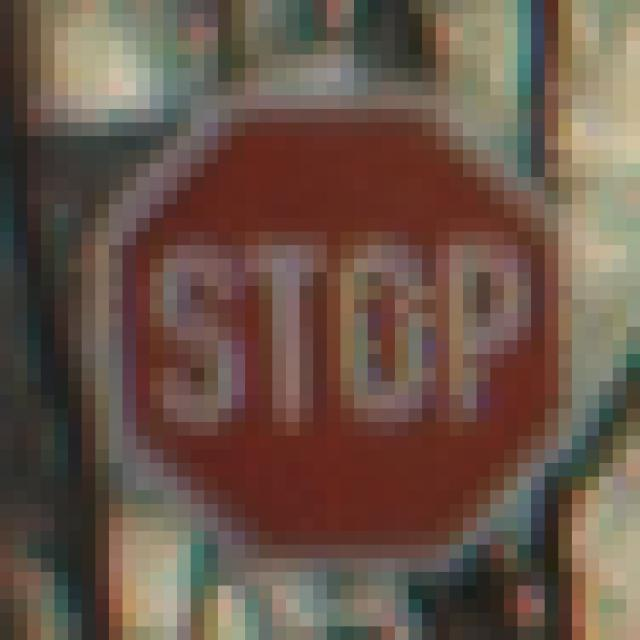STOP: (69, 69, 573, 573)
